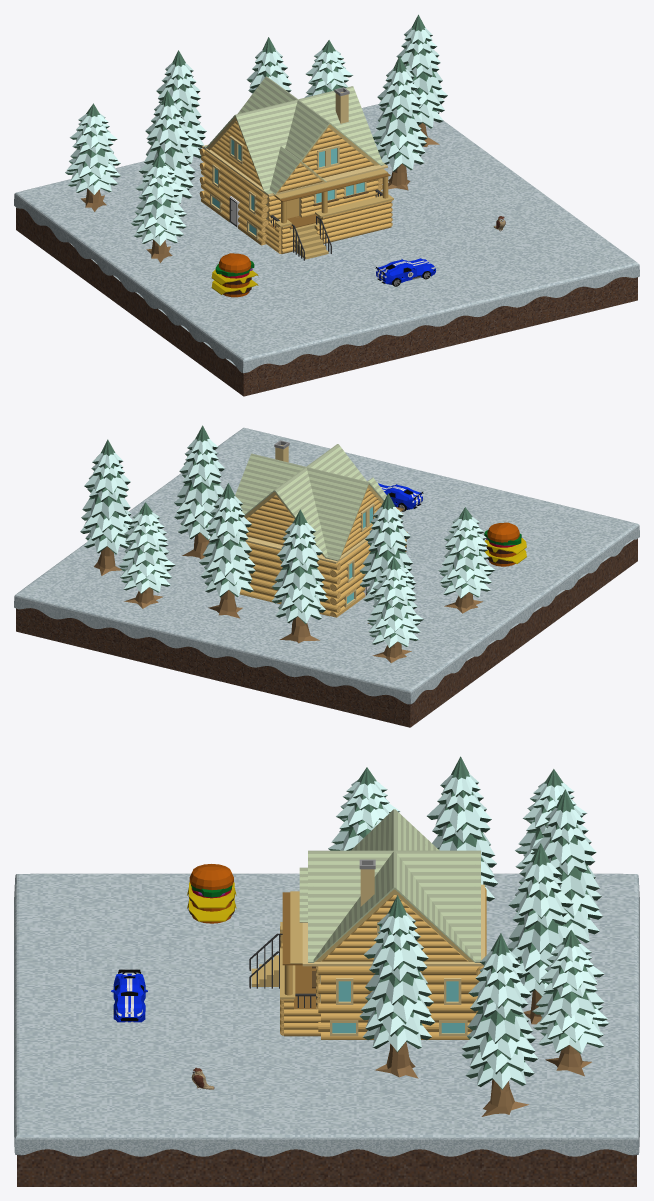
3 renders of one model, top to bottom at view 1: azimuth 30°, elevation 25°; view 2: azimuth 150°, elevation 25°; view 3: azimuth 270°, elevation 25°, orthographic. The views are drawn at different scales.
Parts seen in each view (by area): view 1: Cube.003, Cube.1516, OBJRANDOM_HAMBURGER, VEHICLES_RACING_CAR; view 2: Cube.003, Cube.1516, OBJRANDOM_HAMBURGER, VEHICLES_RACING_CAR; view 3: Cube.003, Cube.1516, OBJRANDOM_HAMBURGER, VEHICLES_RACING_CAR.
Part boxes in pixels (left/top/right/bottom): Cube.003: left=14, top=14, right=639, bottom=396; Cube.1516: left=199, top=76, right=393, bottom=260; OBJRANDOM_HAMBURGER: left=211, top=253, right=258, bottom=297; VEHICLES_RACING_CAR: left=375, top=258, right=435, bottom=286; Cube.003: left=14, top=425, right=639, bottom=727; Cube.1516: left=235, top=440, right=407, bottom=617; OBJRANDOM_HAMBURGER: left=484, top=522, right=526, bottom=566; VEHICLES_RACING_CAR: left=378, top=483, right=423, bottom=511; Cube.003: left=14, top=756, right=639, bottom=1186; Cube.1516: left=249, top=809, right=486, bottom=1039; OBJRANDOM_HAMBURGER: left=187, top=864, right=236, bottom=923; VEHICLES_RACING_CAR: left=111, top=969, right=147, bottom=1022.
Size of the model in its own units: 4040 by 1700 by 4040.
38 materials, 4 textured.
